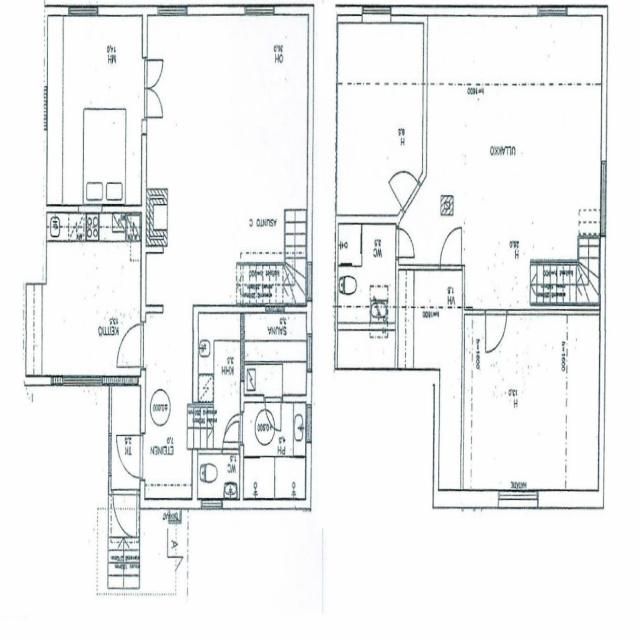door: (387, 154, 420, 212), (116, 324, 144, 366), (116, 435, 143, 477), (113, 490, 136, 537), (440, 228, 461, 270), (486, 308, 506, 352), (140, 88, 161, 117), (140, 60, 161, 88), (395, 228, 414, 257), (222, 420, 238, 454), (224, 414, 243, 442), (265, 397, 281, 430)
